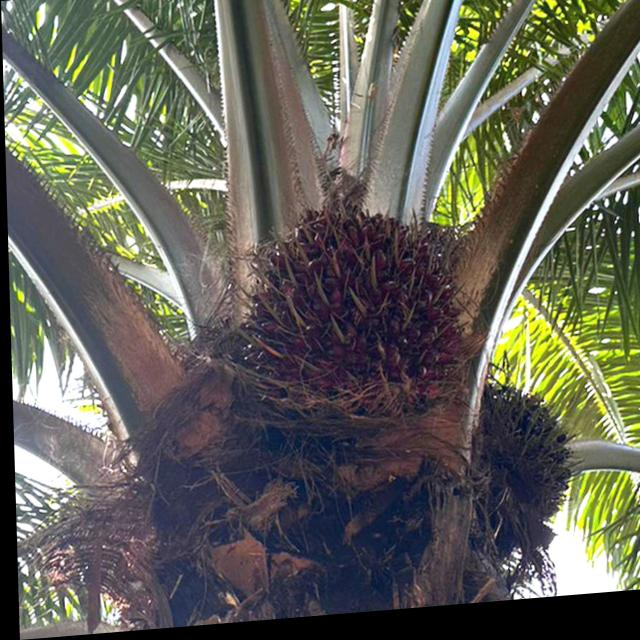ripe: (223, 188, 475, 440)
